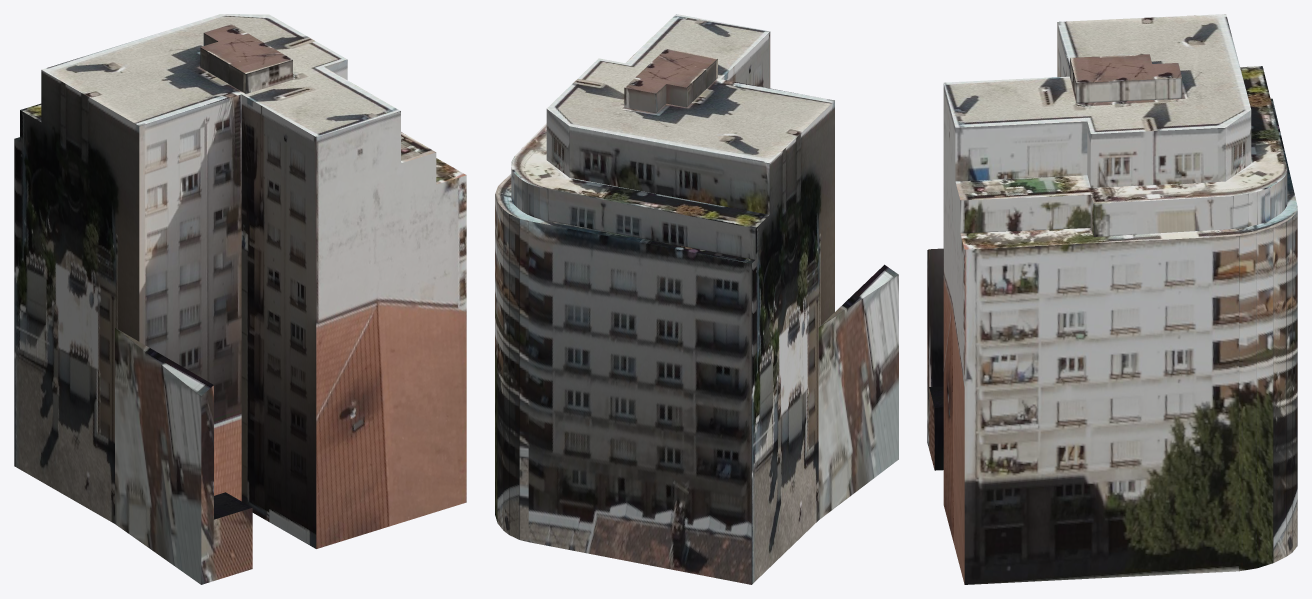
3 renders of one model, left to right at view 1: azimuth 30°, elevation 25°; view 2: azimuth 150°, elevation 25°; view 3: azimuth 270°, elevation 25°, orthographic. The views are drawn at different scales.
Visible parts, largest first — view 1: Z_UP; view 2: Z_UP; view 3: Z_UP.
Boxes of the visible parts, left/top/right/bottom form: Z_UP: left=14, top=14, right=466, bottom=584; Z_UP: left=495, top=14, right=898, bottom=584; Z_UP: left=927, top=14, right=1297, bottom=584.
Size of the model in its own units: 22.45 by 30.67 by 23.24.
2 materials, 1 textured.
